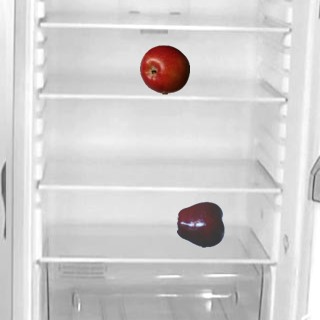Apple Braeburn: (139, 44, 189, 94)
Apple Red Delicious: (176, 199, 226, 249)
